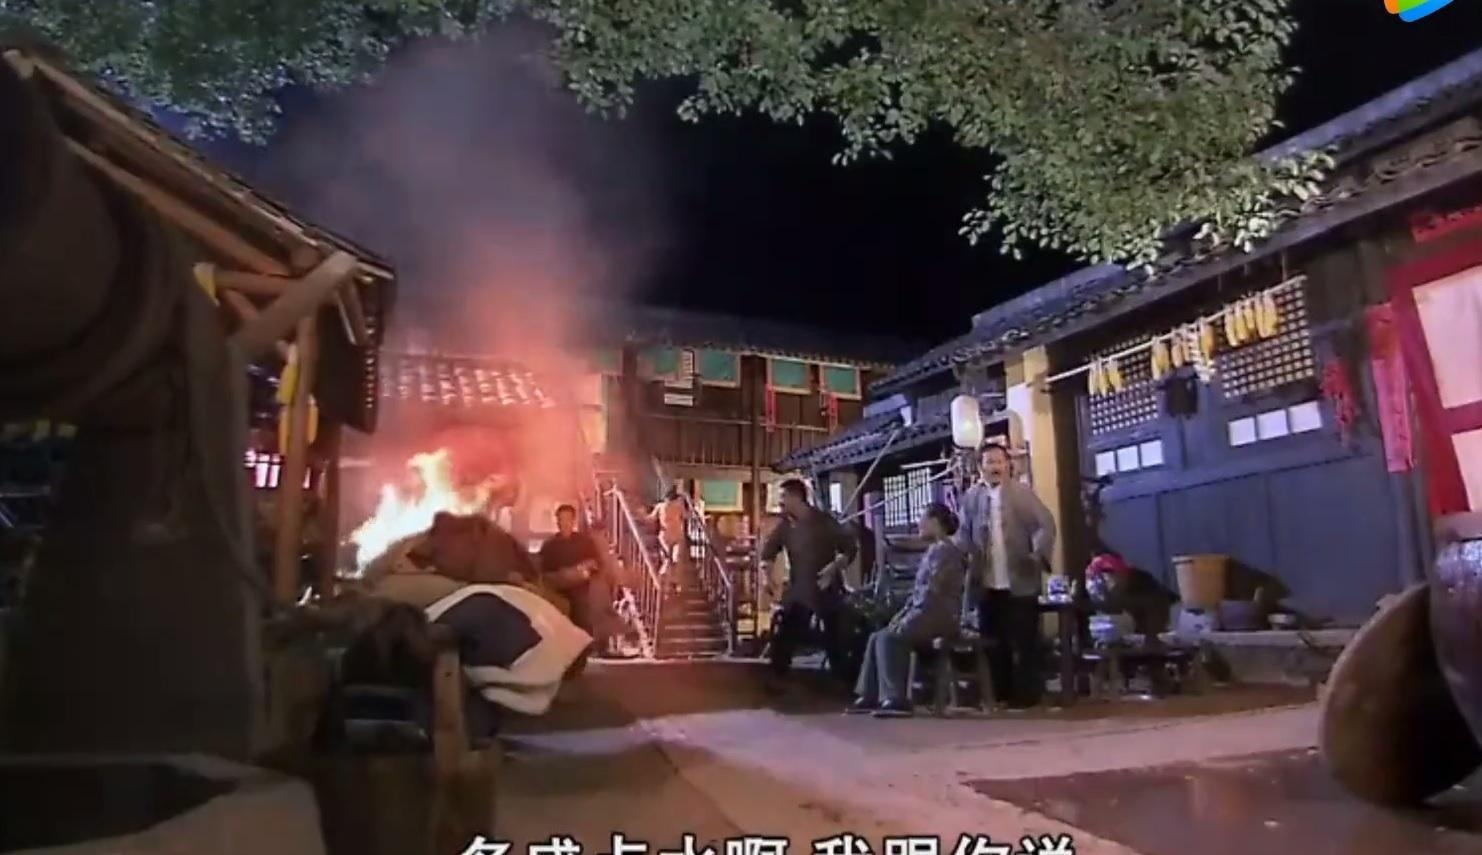fire: (344, 441, 496, 568)
